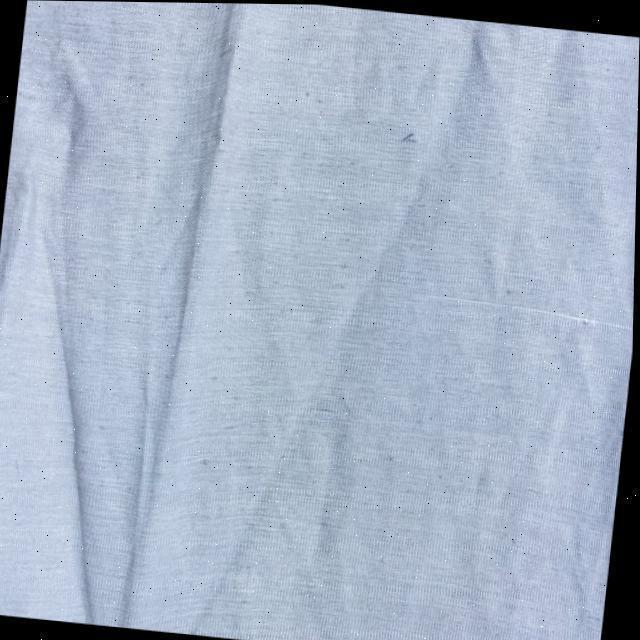broken_yarn: (139, 2, 243, 510)
pulled_or_thick_thread: (412, 290, 633, 327)
